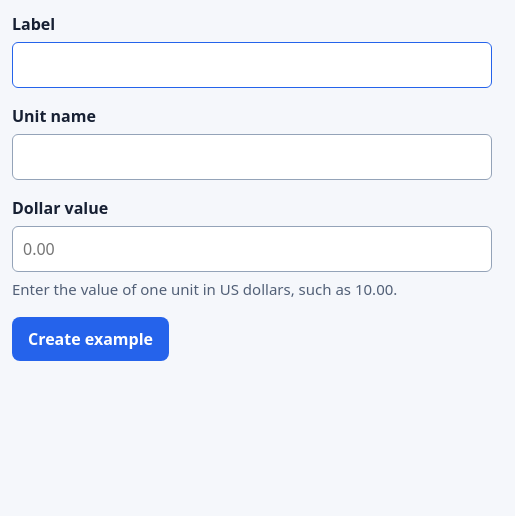
Test: OpportunityCostForm › maps server fields to visible controls and preserves input
Type "Hours worked" into the field labelled "Label" at (252, 65), box [12, 42, 492, 88]
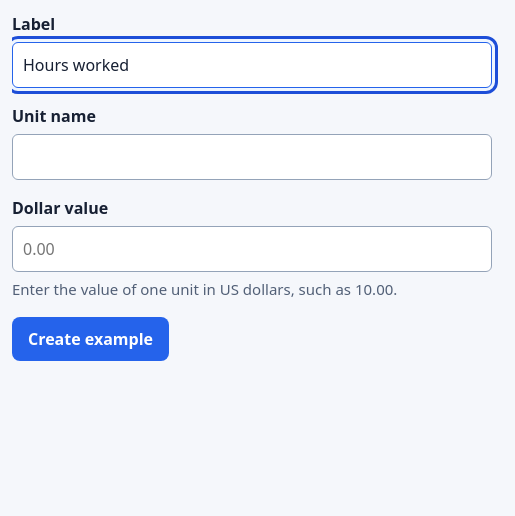
Type "hours" into the field labelled "Unit name" at (252, 157), box [12, 134, 492, 180]
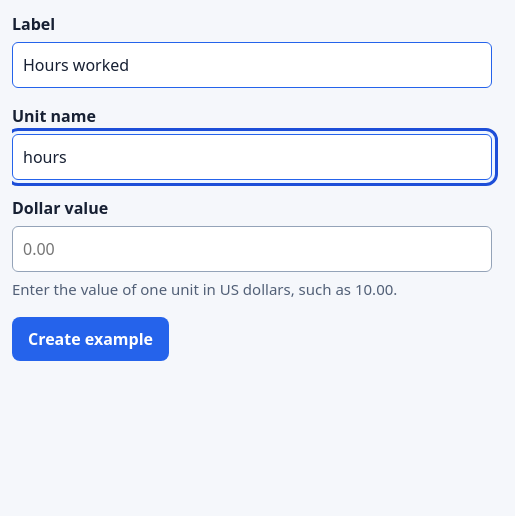
Type "10.00" into the field labelled "Dollar value" at (252, 249), box [12, 226, 492, 272]
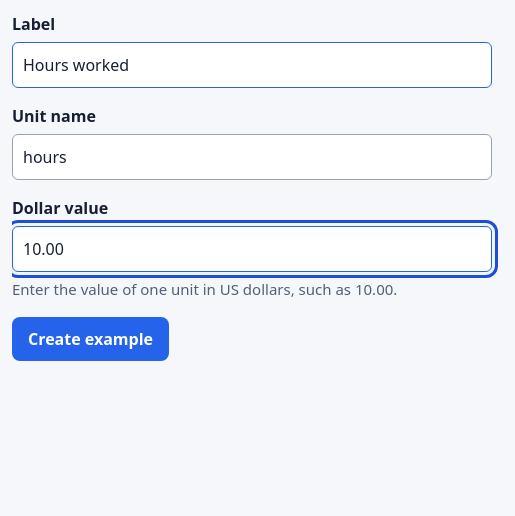
Click the button "Create example" at (90, 338), box [12, 316, 169, 360]
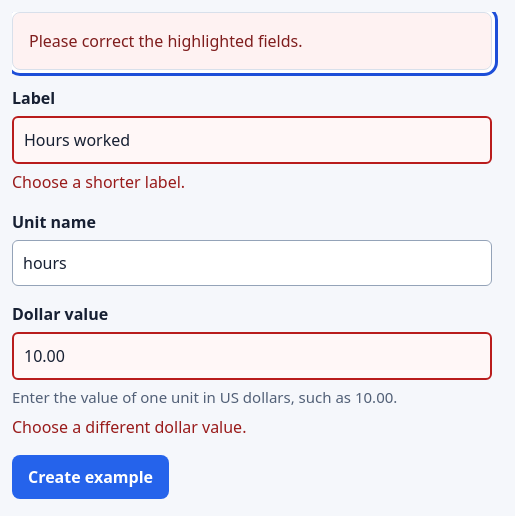
Check: the text "Choose a shorter label." is shown, box [12, 171, 185, 193]
Check: the text "Choose a different dollar value." is shown, box [12, 416, 246, 438]
